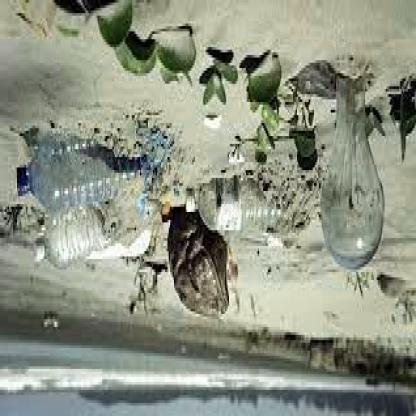Glass: (317, 72, 387, 274)
Plastic: (11, 136, 160, 219), (28, 206, 129, 271), (181, 179, 299, 234)
